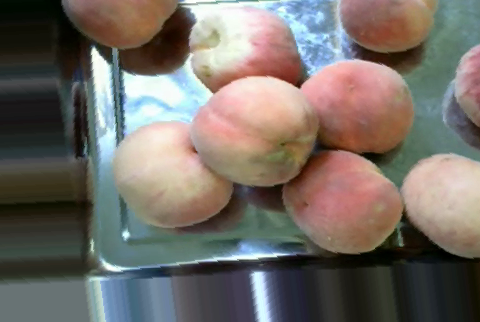Peach: (193, 77, 317, 184), (115, 121, 233, 228), (284, 148, 400, 254), (302, 59, 414, 154), (185, 4, 301, 93), (400, 155, 480, 255), (336, 0, 441, 53)
